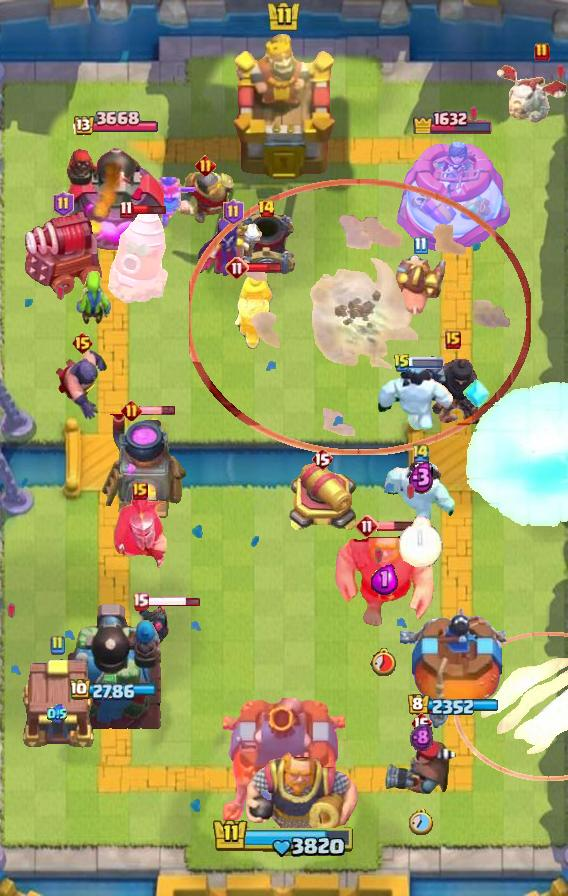axe: (195, 217, 271, 279)
balloon: (333, 530, 435, 628)
battle-ram: (134, 602, 172, 652)
bomb: (17, 656, 97, 750)
clock: (212, 817, 356, 859)
electro-spirit: (409, 460, 436, 494), (370, 564, 397, 595), (411, 724, 434, 753), (47, 704, 67, 724)
elite-barbarian: (232, 268, 274, 350)
elixir: (399, 517, 443, 568), (370, 647, 398, 676), (409, 809, 433, 835)
emote: (146, 595, 201, 609), (133, 203, 168, 217), (408, 357, 444, 369), (377, 520, 413, 532), (139, 404, 177, 415), (247, 262, 282, 273)
firecracker: (177, 169, 235, 225)
freeze: (392, 250, 448, 322)
giant-skeleton: (244, 747, 360, 847)
golem: (21, 209, 105, 295)
hog-rider: (151, 175, 199, 229)
hunter: (98, 414, 188, 522)
ice-wizard: (454, 631, 568, 780)
inferno-dragon: (423, 351, 483, 427)
king-tower: (223, 698, 345, 826), (231, 35, 337, 182)
magic-archer: (104, 208, 170, 306)
mega-knight: (461, 381, 568, 531)
mini-pekka: (494, 62, 568, 126)
monk: (54, 347, 110, 421)
musketeer: (235, 210, 297, 278)
pad_2: (463, 376, 491, 410)
phoenix-small: (382, 736, 460, 796)
queen-tower: (390, 137, 516, 255), (400, 603, 506, 731)
rage: (373, 362, 459, 430), (384, 461, 458, 525)
royal-ghost: (189, 179, 531, 455)
royal-recruit: (286, 461, 358, 535)
selected: (70, 111, 157, 138), (408, 694, 501, 718), (412, 108, 494, 134), (69, 678, 158, 701)
text: (225, 256, 249, 280), (355, 514, 379, 538), (53, 191, 75, 217), (70, 331, 93, 355), (224, 199, 245, 225), (311, 447, 333, 471), (410, 711, 432, 735), (195, 155, 217, 177), (121, 399, 142, 420), (411, 441, 431, 462), (256, 199, 276, 219), (393, 353, 411, 373), (131, 593, 149, 611), (534, 42, 550, 62), (49, 635, 65, 655), (445, 331, 461, 349), (132, 482, 148, 500), (413, 237, 428, 256), (119, 201, 133, 219)
tower-bar: (64, 601, 164, 731), (63, 138, 164, 256)
wall-breaker-evolution: (112, 494, 168, 574)
zap: (75, 268, 113, 326)
